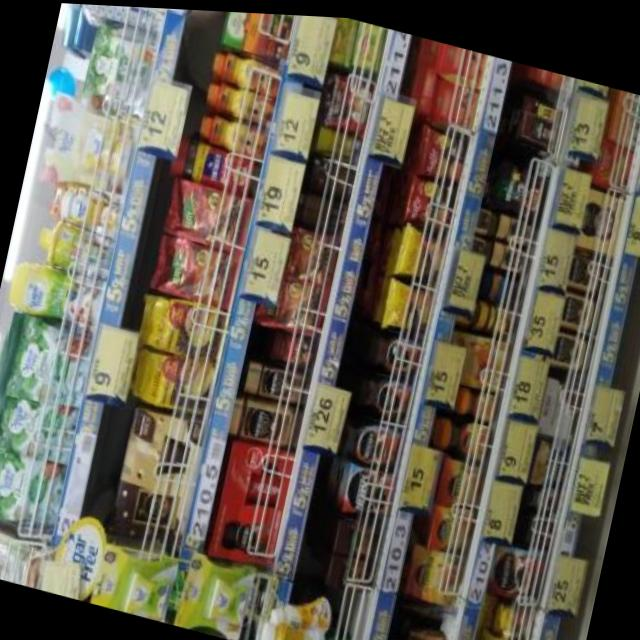Coffee: (332, 408, 404, 466), (226, 392, 302, 445), (484, 534, 546, 597), (198, 107, 270, 155), (406, 541, 464, 600), (364, 323, 424, 374), (210, 47, 282, 89), (242, 357, 309, 402), (204, 79, 274, 121), (356, 365, 412, 417), (432, 410, 492, 456), (343, 460, 394, 513), (435, 451, 484, 502), (428, 497, 474, 548), (559, 284, 605, 328), (566, 244, 610, 288), (550, 322, 595, 365), (456, 380, 498, 416), (522, 474, 561, 511), (489, 236, 532, 267), (496, 209, 538, 239)
